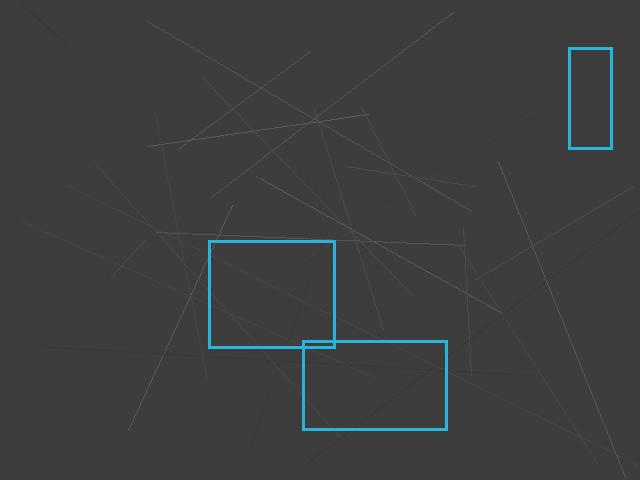D10: (208, 240, 335, 348), (302, 340, 447, 430), (568, 47, 612, 149)
